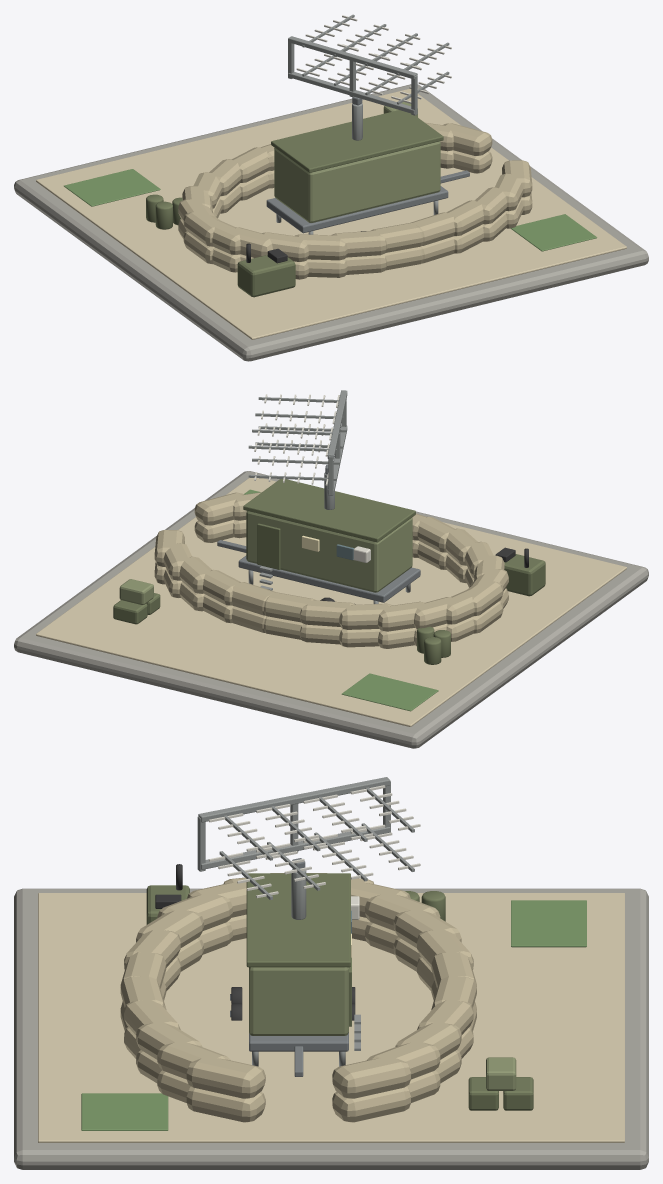
Rendered from radar_1.glb.
3 views of the same model, one above another, from view 1: azimuth 30°, elevation 25°; view 2: azimuth 150°, elevation 25°; view 3: azimuth 270°, elevation 25° (orthographic). The views are drawn at different scales.
Parts seen in each view (by area): view 1: Cube.001, Cube, Cube.006, Cube.007, Cube.002, Cube.078, Cube.004, Cube.003, Cube.116, Cube.084, Cube.114, Cube.118 (+22 smaller); view 2: Cube.001, Cube, Cube.006, Cube.007, Cube.002, Cube.004, Cube.078, Cube.096, Cube.128, Cube.098, Cube.008, Cube.094 (+24 smaller); view 3: Cube.001, Cube, Cube.007, Cube.006, Cube.002, Cube.003, Cube.128, Cube.084, Cube.127, Cube.083, Cube.018, Cube.004 (+30 smaller).
Boxes of the visible parts, x1,y1,x2,y2 form: Cube.001: (36, 88, 626, 339); Cube: (14, 84, 648, 361); Cube.006: (274, 141, 440, 222); Cube.007: (271, 110, 443, 172); Cube.002: (64, 169, 160, 206); Cube.078: (237, 255, 295, 297); Cube.004: (266, 186, 448, 233); Cube.003: (510, 214, 596, 251); Cube.116: (331, 230, 386, 257); Cube.084: (443, 123, 492, 155); Cube.114: (295, 234, 347, 260); Cube.118: (370, 222, 422, 252); Cube.001: (36, 477, 626, 726); Cube: (14, 471, 648, 748); Cube.006: (246, 511, 412, 592); Cube.007: (243, 479, 415, 542); Cube.002: (341, 673, 438, 711); Cube.004: (238, 555, 420, 602); Cube.078: (504, 554, 545, 596); Cube.096: (300, 600, 355, 626); Cube.128: (194, 492, 243, 525); Cube.098: (339, 603, 392, 629); Cube.008: (257, 523, 280, 569); Cube.094: (264, 592, 315, 622); Cube.001: (38, 893, 624, 1142); Cube: (14, 888, 648, 1169); Cube.007: (246, 873, 350, 967); Cube.006: (249, 967, 348, 1035); Cube.002: (511, 900, 586, 947); Cube.003: (81, 1093, 168, 1130); Cube.128: (186, 1056, 265, 1098); Cube.084: (332, 1057, 410, 1098); Cube.127: (186, 1086, 265, 1122); Cube.083: (332, 1086, 410, 1122); Cube.018: (198, 777, 390, 822); Cube.004: (249, 1032, 348, 1051).
Bounding box in the file's own units: 2.92 × 1.26 × 2.92.
